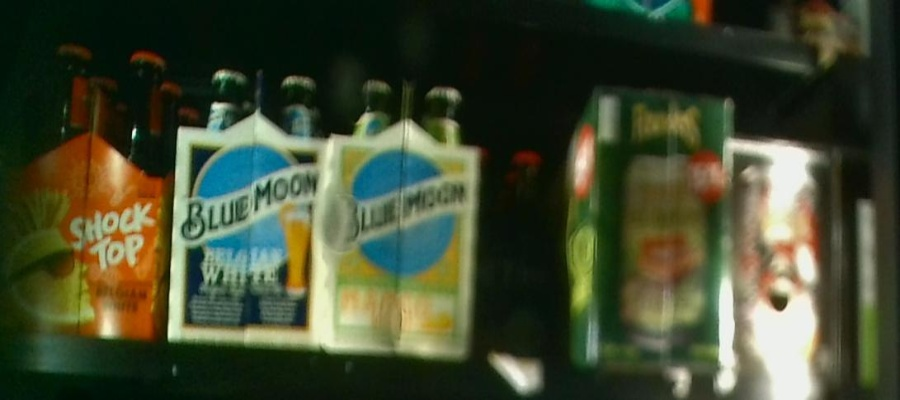bottle: (563, 81, 733, 381), (3, 42, 168, 351), (329, 74, 482, 359), (172, 64, 323, 346), (732, 138, 843, 391), (485, 146, 552, 355)
